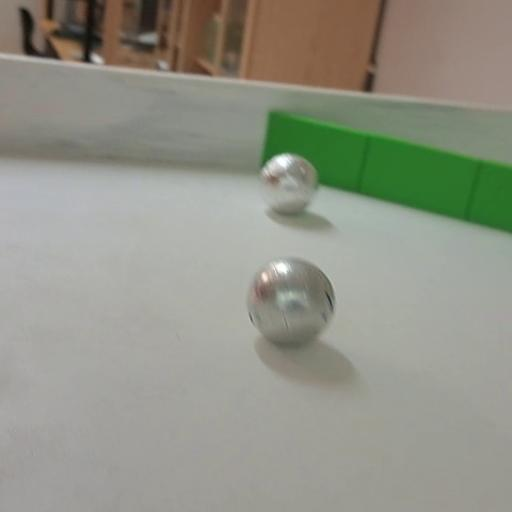alive: (248, 258, 336, 348), (259, 153, 318, 215)
